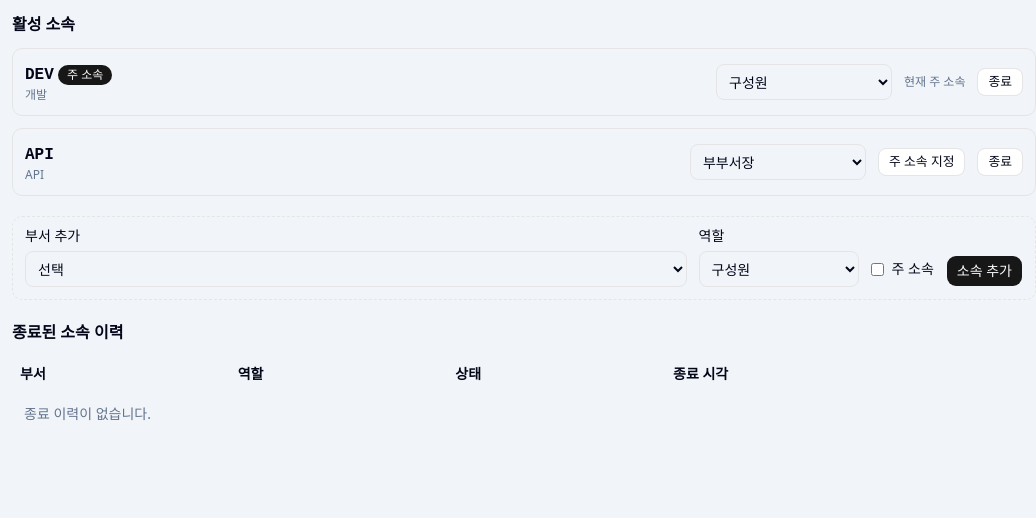
it: refreshes server state after an optimistic membership version conflict
The width and height of the screenshot is (1036, 518).
Click the button with aria-label "API를 주 소속으로 지정" at [922, 162], box [878,148,965,176]
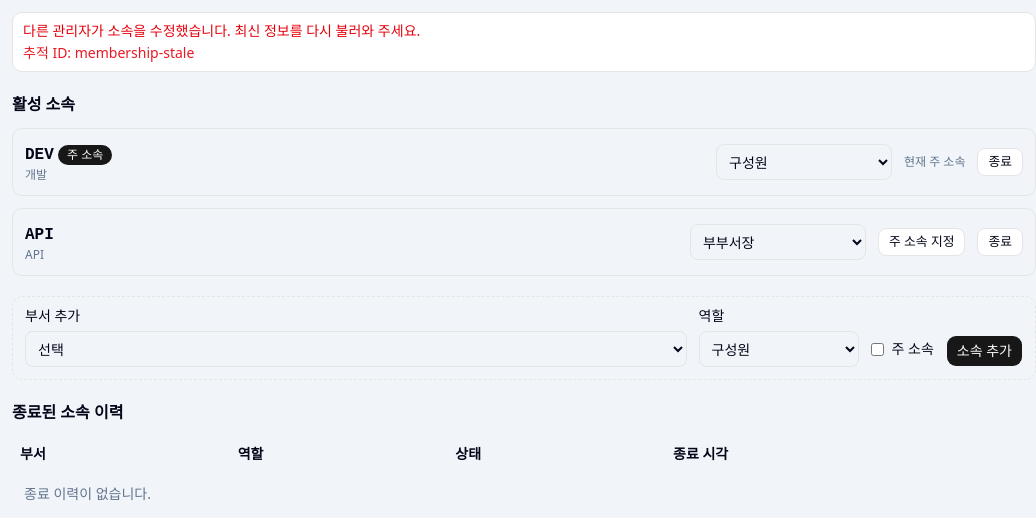
Check: the text "다른 관리자가 소속을 수정했습니다. 최신 정보를 다시 불러와 주세요." is shown, box [23,21,420,40]
Check: the text "추적 ID: membership-stale" is shown, box [23,43,194,62]
